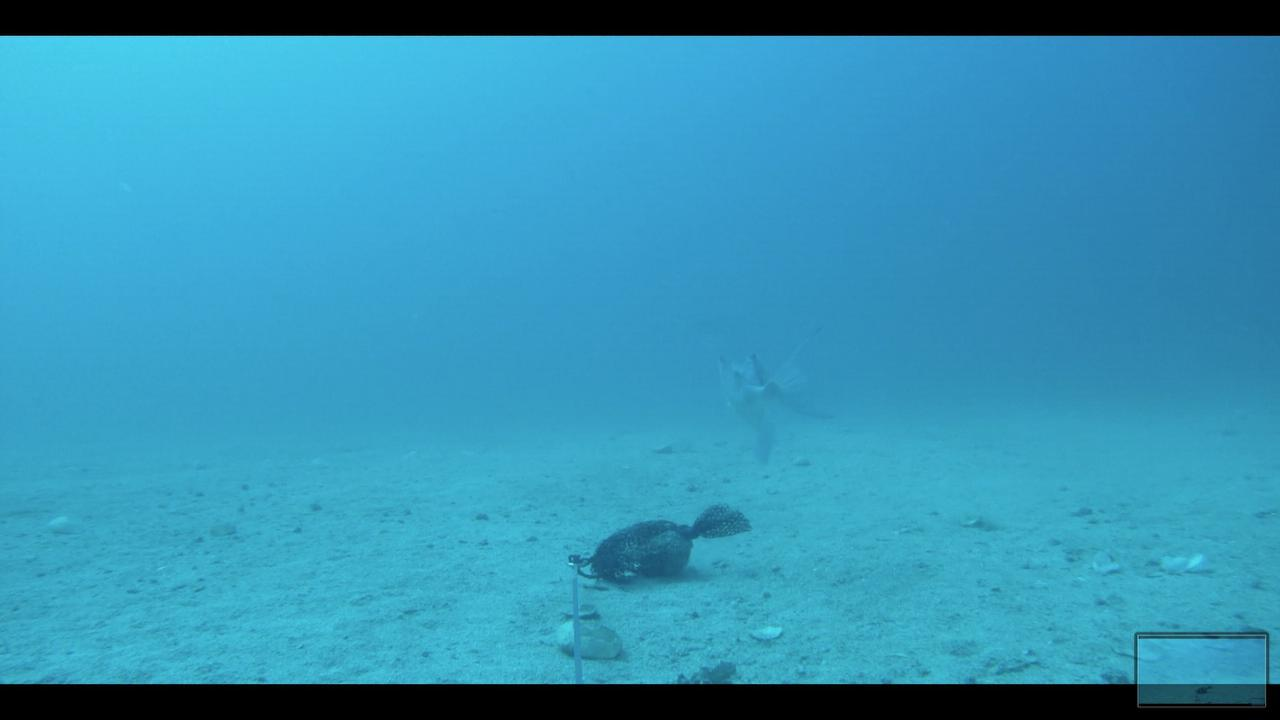balistes: (712, 321, 838, 469)
